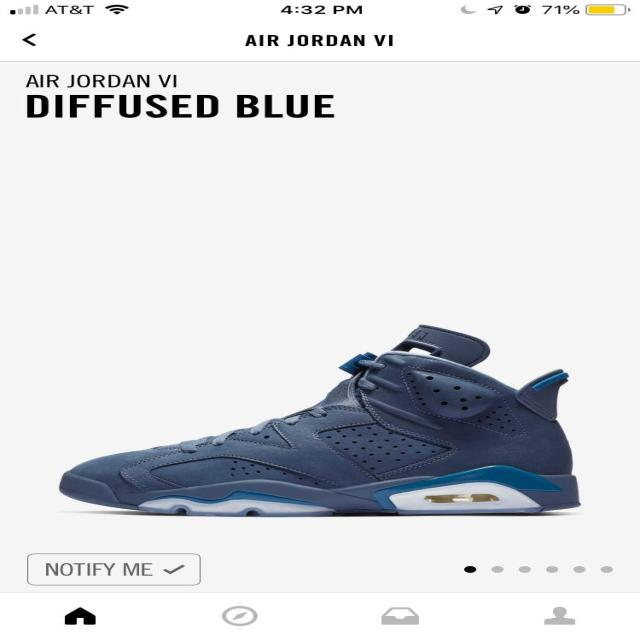shoe: (54, 323, 596, 521)
